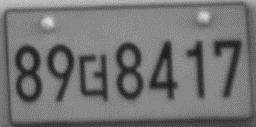1: (182, 39, 214, 99)
4: (148, 39, 180, 100)
7: (213, 38, 242, 97)
8: (14, 43, 43, 103), (114, 42, 143, 100)
9: (46, 43, 75, 102)
더: (78, 53, 109, 102)
